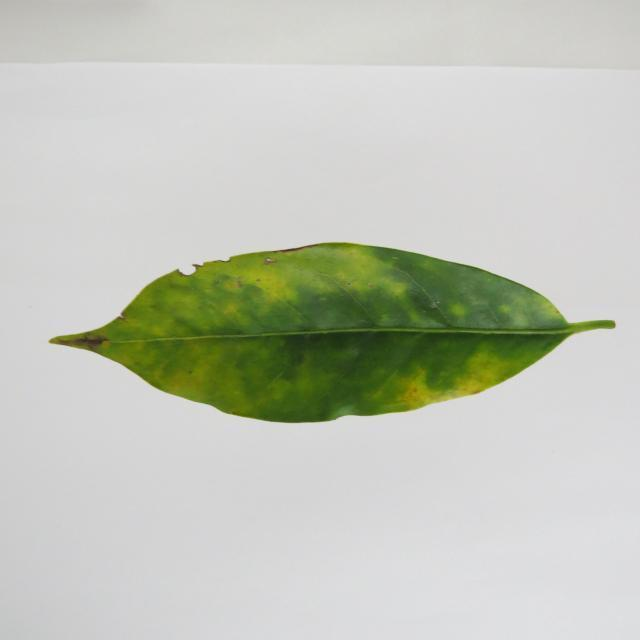DeficienciaNutricional-Magnesio: (50, 242, 615, 422)
